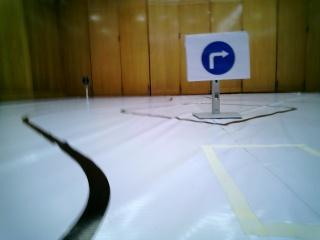right: (186, 38, 253, 78)
